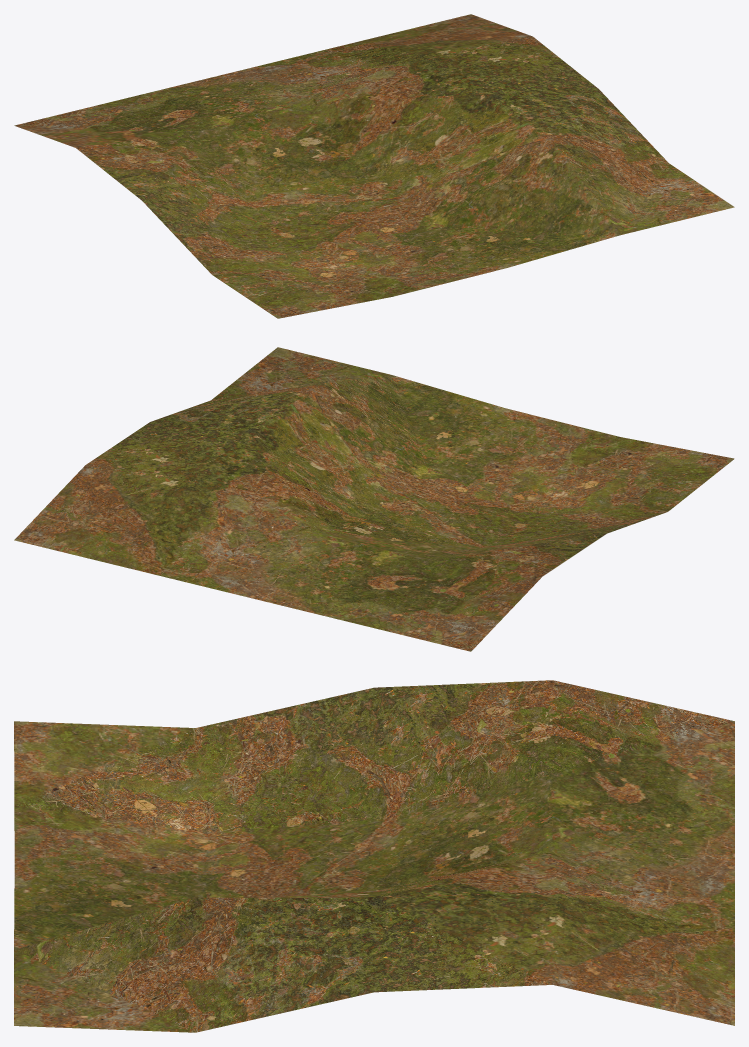
Rendered from grass 2.fbx.
The picture shows the model from 3 angles, top to bottom: view 1: azimuth 30°, elevation 25°; view 2: azimuth 150°, elevation 25°; view 3: azimuth 270°, elevation 25°; orthographic projection. The views are drawn at different scales.
Parts seen in each view (by area): view 1: grass 2.001; view 2: grass 2.001; view 3: grass 2.001.
Boxes of the visible parts, x1,y1,x2,y2 form: grass 2.001: [14, 14, 734, 318]; grass 2.001: [14, 347, 734, 651]; grass 2.001: [14, 680, 734, 1032].
Bounding box in the file's own units: 18 × 18.21 × 2.37.
Materials: 1 (1 with a texture image).
